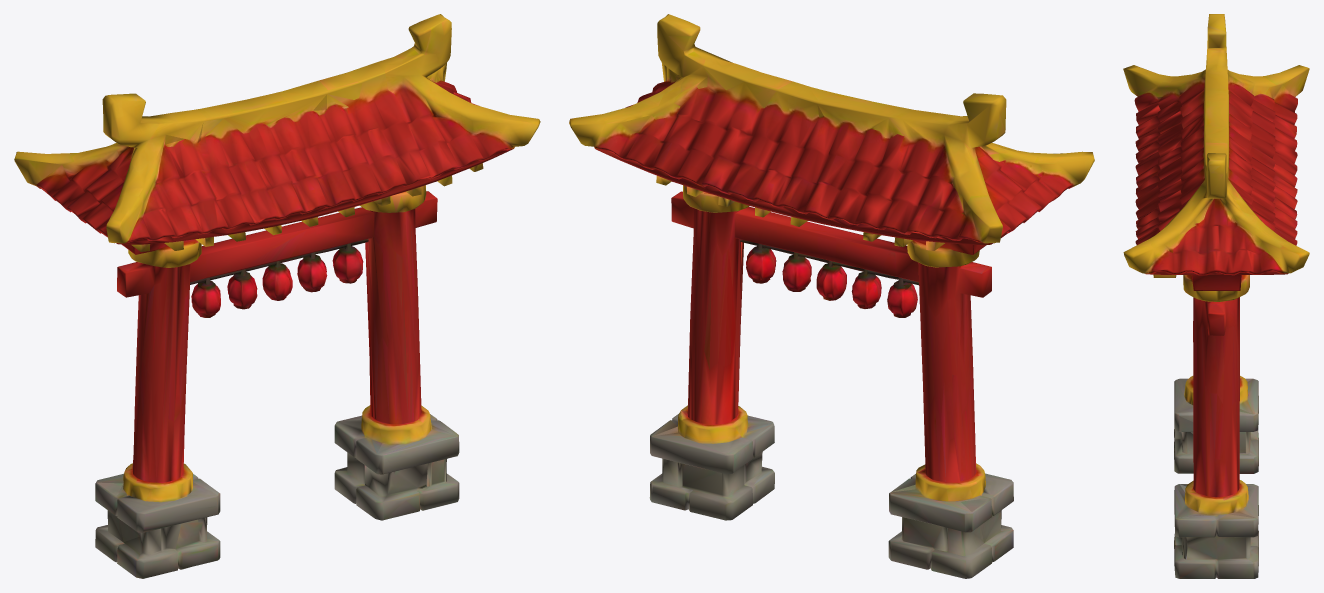
Rendered from prop_lantern_gate.fbx.
3 views of the same model, side by side, from view 1: azimuth 30°, elevation 25°; view 2: azimuth 150°, elevation 25°; view 3: azimuth 270°, elevation 25° (orthographic). The views are drawn at different scales.
Visible parts, largest first — view 1: tripo_node_e36d8eb4-1c79-4fe1-8cb9-6222cebeb189; view 2: tripo_node_e36d8eb4-1c79-4fe1-8cb9-6222cebeb189; view 3: tripo_node_e36d8eb4-1c79-4fe1-8cb9-6222cebeb189.
Part boxes in pixels (x1,y1,x2,y2): tripo_node_e36d8eb4-1c79-4fe1-8cb9-6222cebeb189: (14,14,540,578); tripo_node_e36d8eb4-1c79-4fe1-8cb9-6222cebeb189: (569,14,1094,578); tripo_node_e36d8eb4-1c79-4fe1-8cb9-6222cebeb189: (1123,14,1309,578).
Size of the model in its own units: 0.9533 by 0.9786 by 0.3932.
